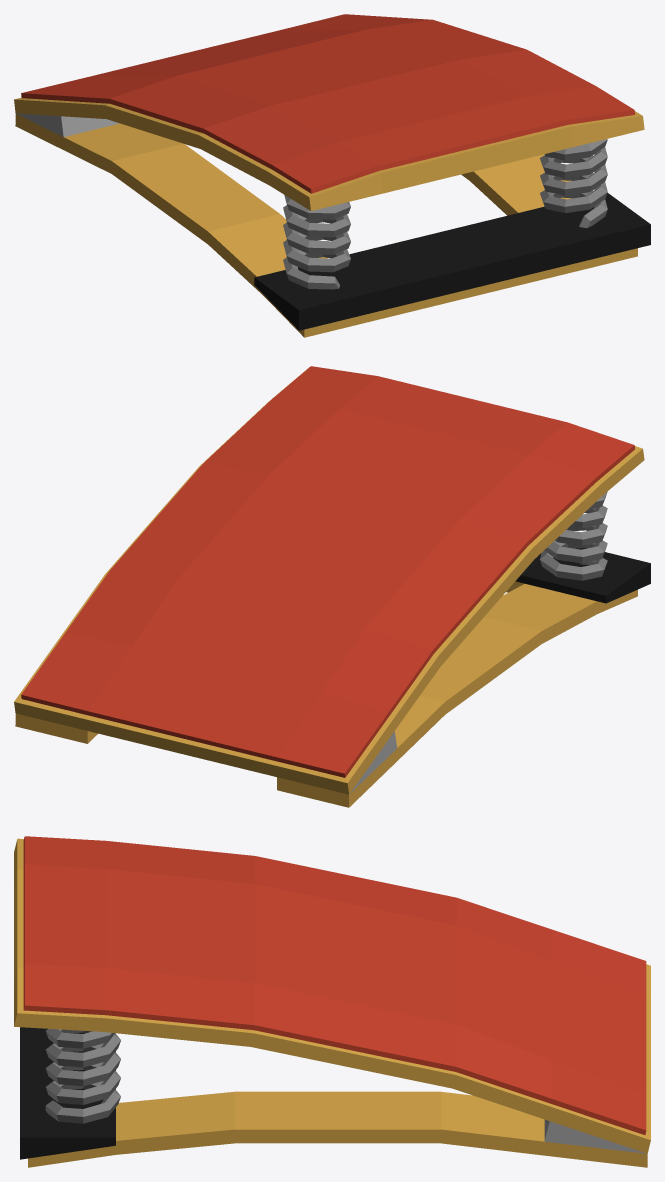
Rendered from Int_GymTrampoline01.fbx.
3 views of the same model, one above another, from view 1: azimuth 30°, elevation 25°; view 2: azimuth 150°, elevation 25°; view 3: azimuth 270°, elevation 25° (orthographic). The views are drawn at different scales.
Parts seen in each view (by area): view 1: Int_GymTrampoline01; view 2: Int_GymTrampoline01; view 3: Int_GymTrampoline01.
Part boxes in pixels (x1,y1,x2,y2): Int_GymTrampoline01: (14,14,650,337); Int_GymTrampoline01: (14,366,650,807); Int_GymTrampoline01: (14,836,650,1167).
Size of what is drawn, in the model's own units: 105 by 154 by 44.47.
